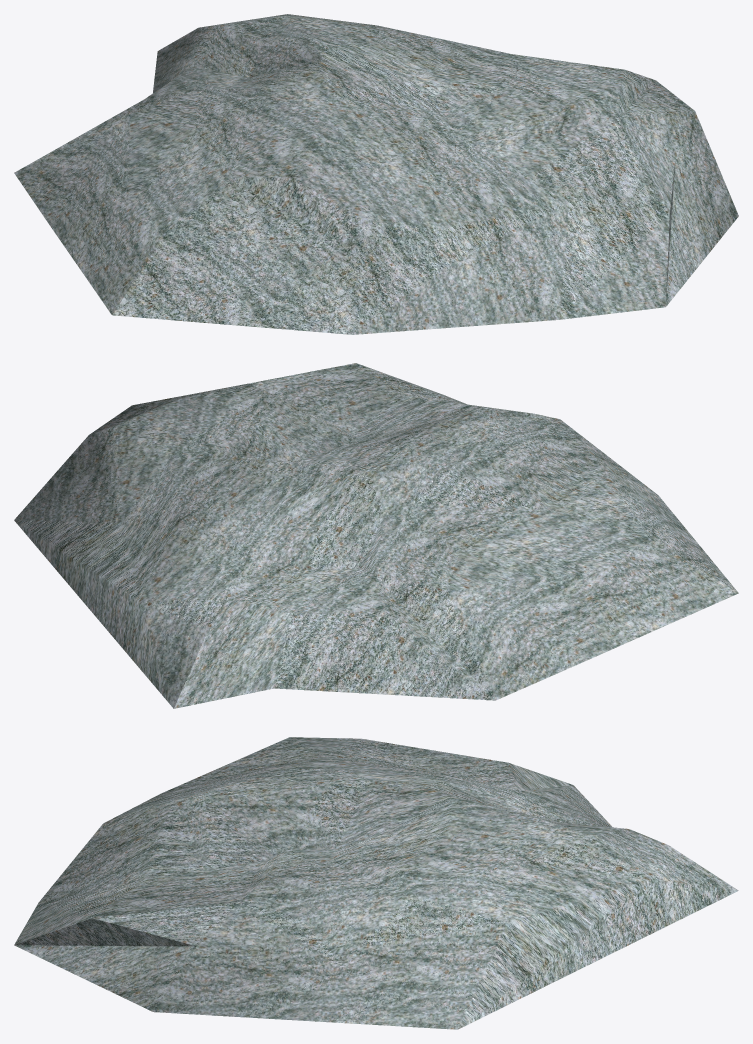
The model's file is rock_graniteslab_large_a1_l1.fbx.
3 views of the same model, one above another, from view 1: azimuth 30°, elevation 25°; view 2: azimuth 150°, elevation 25°; view 3: azimuth 270°, elevation 25° (orthographic). The views are drawn at different scales.
Parts seen in each view (by area): view 1: mesh_node; view 2: mesh_node; view 3: mesh_node.
Boxes of the visible parts, bbox=[...] form: mesh_node: bbox=[14, 14, 738, 334]; mesh_node: bbox=[14, 363, 738, 708]; mesh_node: bbox=[14, 737, 738, 1029].
Bounding box in the file's own units: 4.18 × 0.7134 × 4.58.
